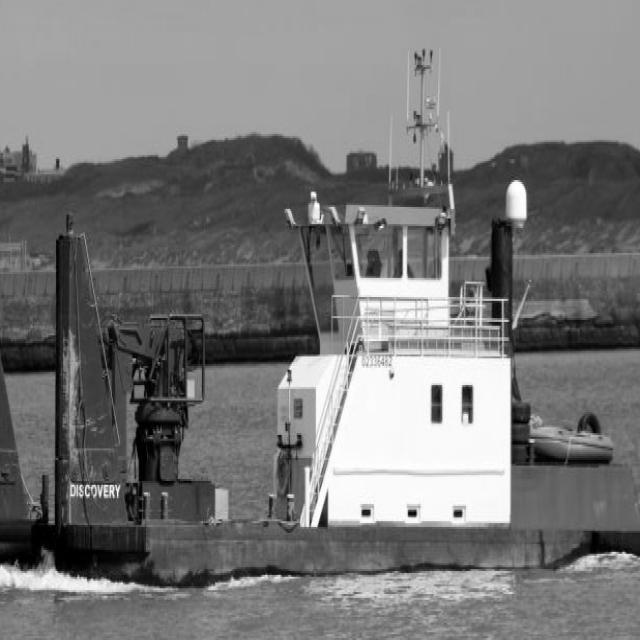tugboat: (1, 147, 640, 607)
